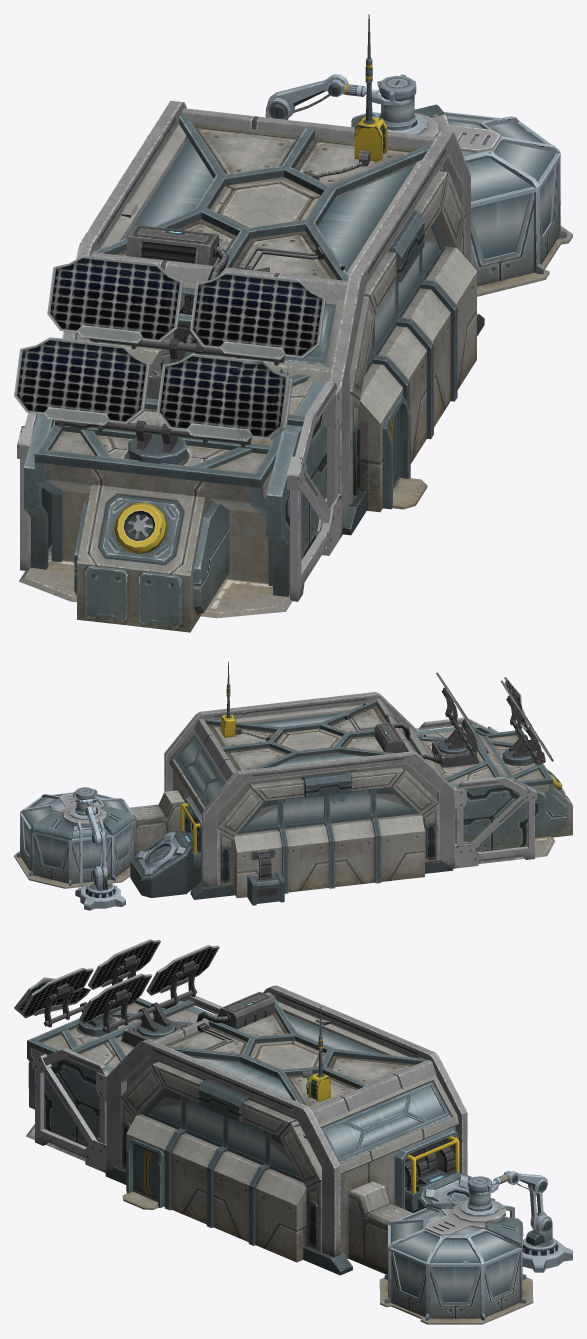
Rendered from es_techstructure_a.fbx.
3 views of the same model, one above another, from view 1: azimuth 30°, elevation 25°; view 2: azimuth 150°, elevation 25°; view 3: azimuth 270°, elevation 25° (orthographic). The views are drawn at different scales.
Visible parts, largest first — view 1: ES_TechStructureA_FactionStructure, glass; view 2: ES_TechStructureA_FactionStructure, glass; view 3: ES_TechStructureA_FactionStructure, glass.
Part boxes in pixels (x1,y1,x2,y2): ES_TechStructureA_FactionStructure: (14,14,572,632); glass: (124,113,555,365); ES_TechStructureA_FactionStructure: (14,661,572,910); glass: (22,712,411,869); ES_TechStructureA_FactionStructure: (14,939,572,1324); glass: (149,1013,518,1302).
Bounding box in the file's own units: 792 × 345 × 767.
3 materials, 2 textured.
